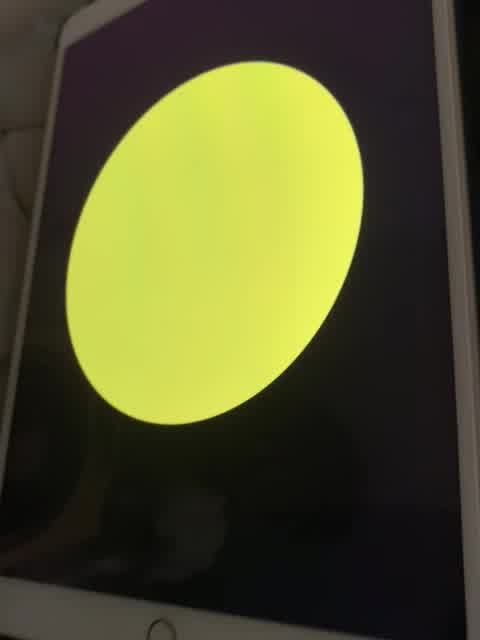left: (40, 50, 380, 441)
